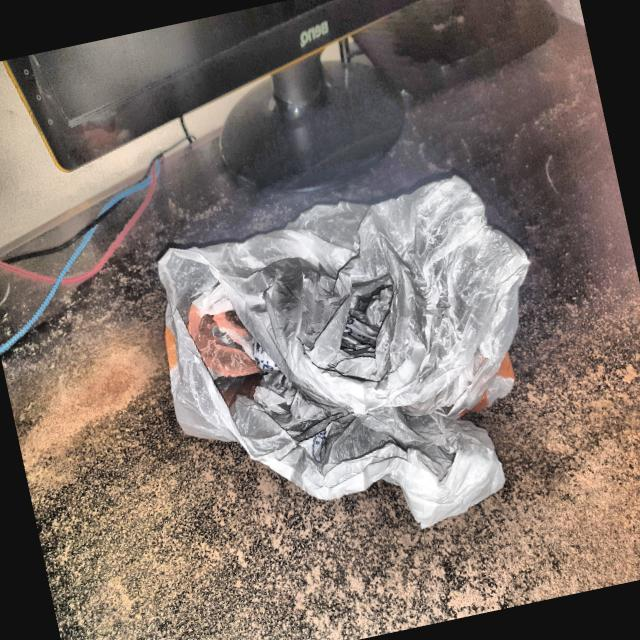plastic bag: (132, 159, 590, 584)
